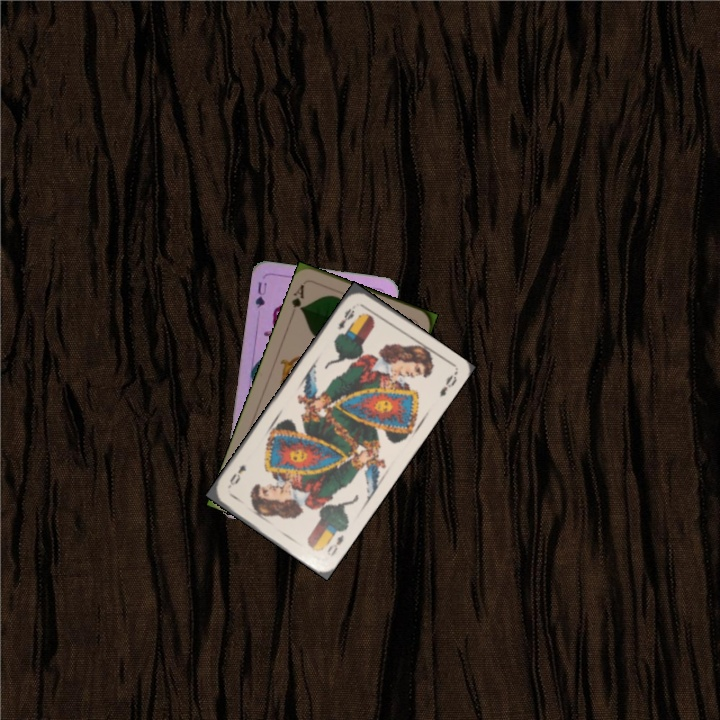EO: (334, 304, 357, 333), (323, 531, 346, 558)
GA: (287, 280, 307, 314)
GU: (251, 278, 269, 311)
